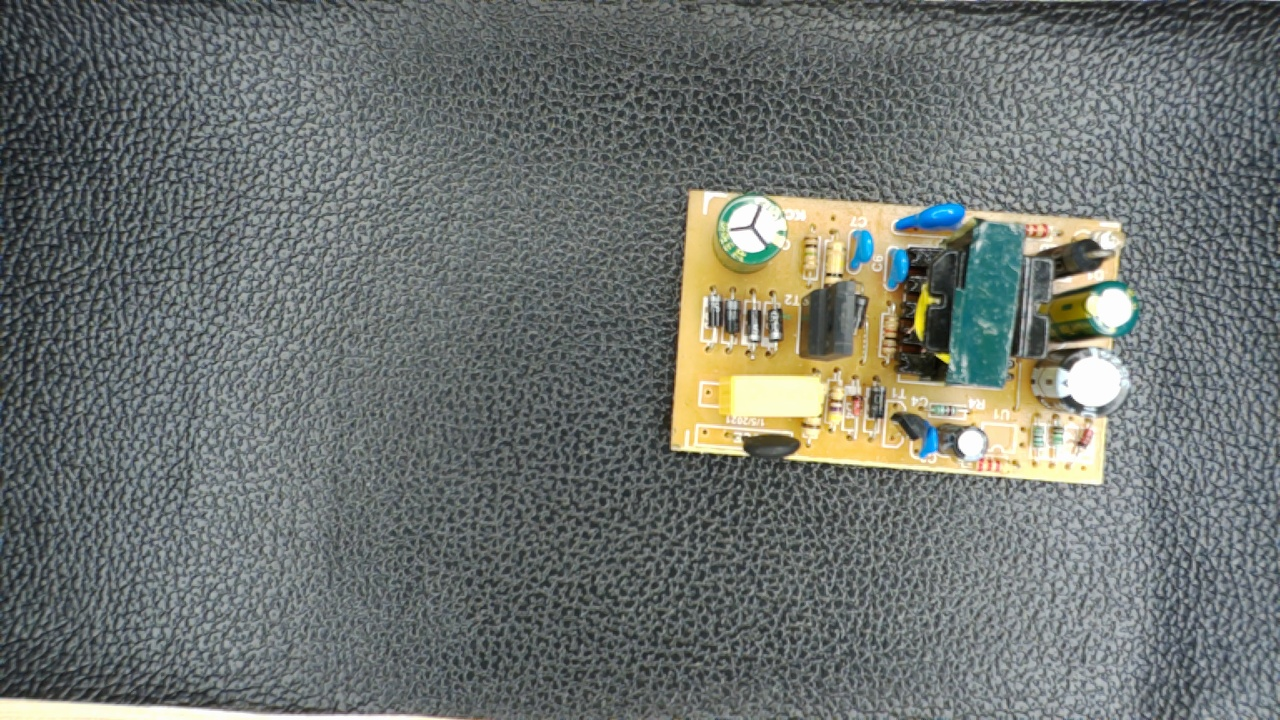fuse: (719, 423, 809, 459)
hv_capacitor: (708, 191, 791, 275)
mov: (887, 201, 978, 239)
